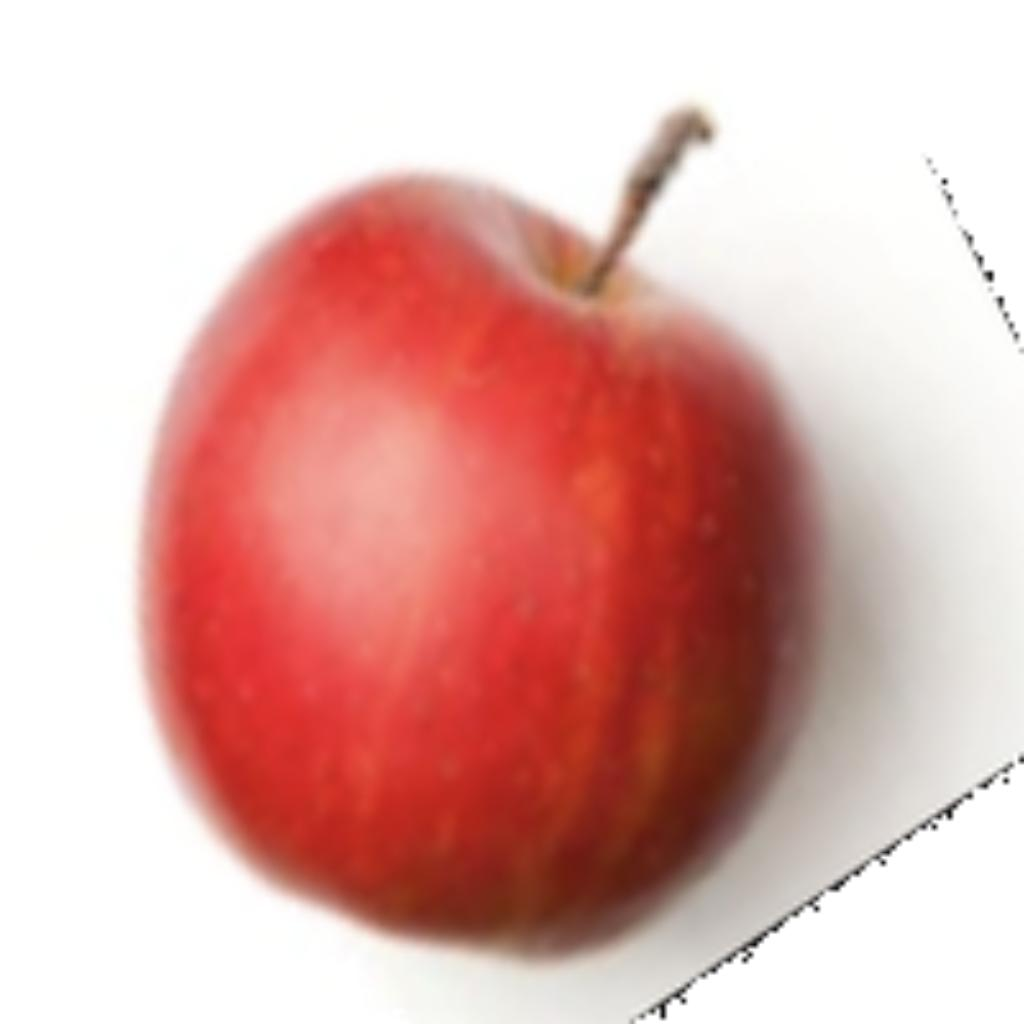apple: (123, 92, 952, 1019)
